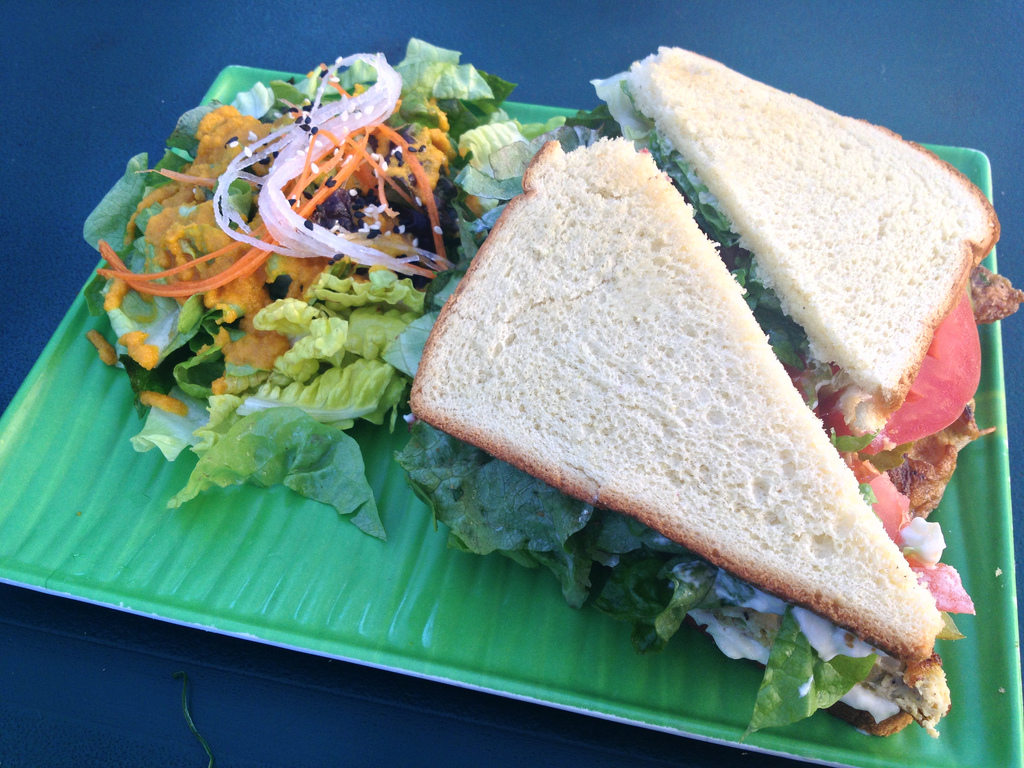chopped lettuce: (427, 459, 873, 719), (84, 188, 407, 521), (348, 64, 534, 178)
slice of bread: (411, 142, 939, 639), (630, 53, 1001, 378)
